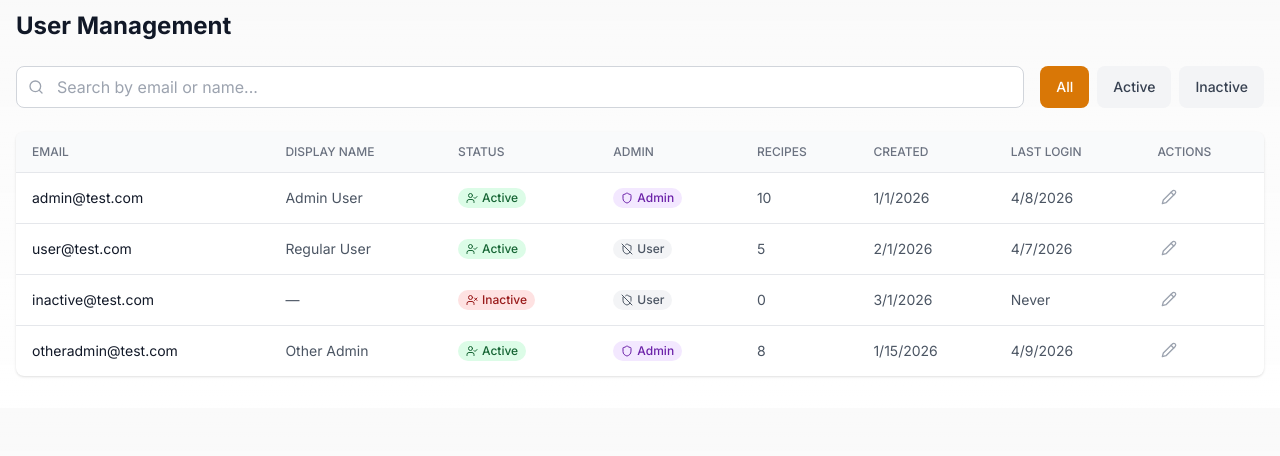
Test: UsersPage › self-deactivate shows error message
expect the text "admin@test.com" is shown: met, box [16, 172, 269, 224]
What coordinates should you click on to do the following:
click the switch named "toggle active status"
I would click on:
 (492, 198)
Its box is [458, 188, 526, 208].
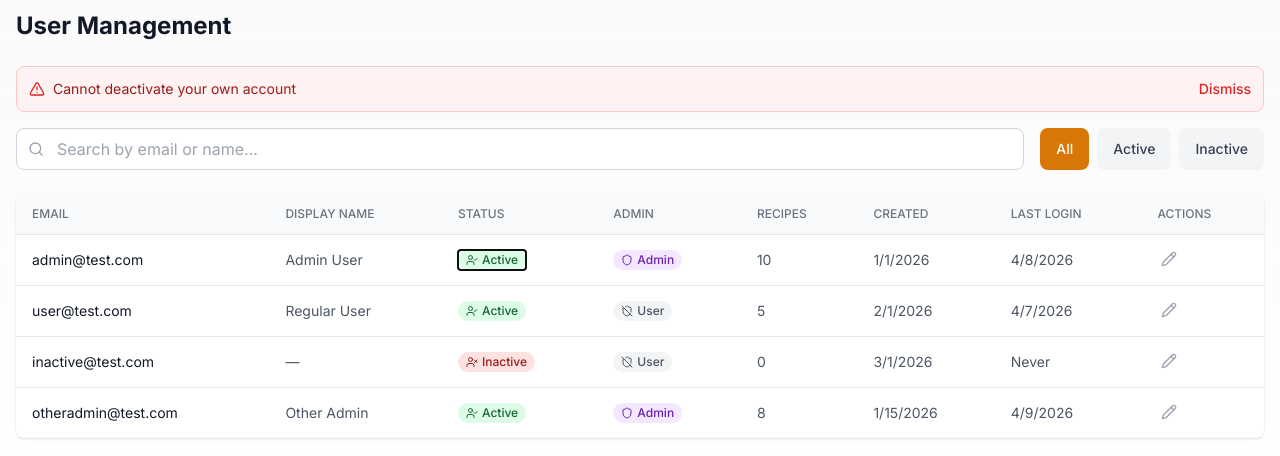
expect the text "Cannot deactivate your own account" is shown: met, box [53, 79, 296, 99]
